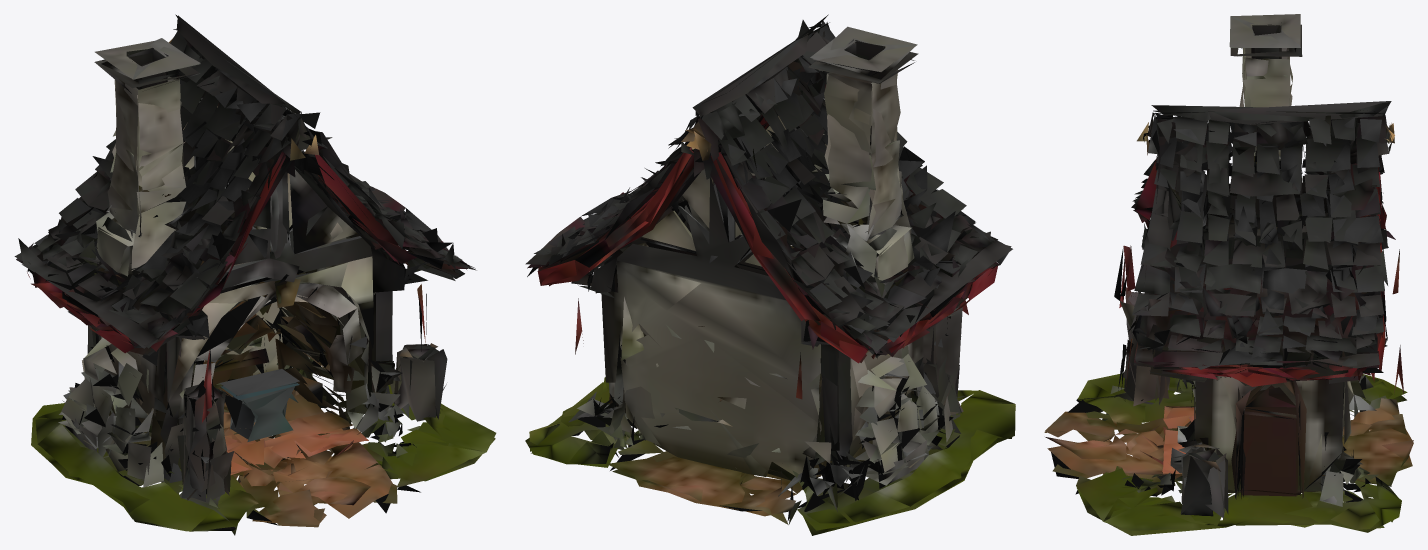
Rendered from town_smithy.glb.
The picture shows the model from 3 angles, left to right: view 1: azimuth 30°, elevation 25°; view 2: azimuth 150°, elevation 25°; view 3: azimuth 270°, elevation 25°; orthographic projection. The views are drawn at different scales.
Parts seen in each view (by area): view 1: town_smithy; view 2: town_smithy; view 3: town_smithy.
Part boxes in pixels (x1,y1,x2,y2): town_smithy: [14, 14, 496, 535]; town_smithy: [525, 14, 1015, 535]; town_smithy: [1044, 14, 1413, 535].
Size of the model in its own units: 5.79 by 6.29 by 5.32.
Materials: 1 (1 with a texture image).
